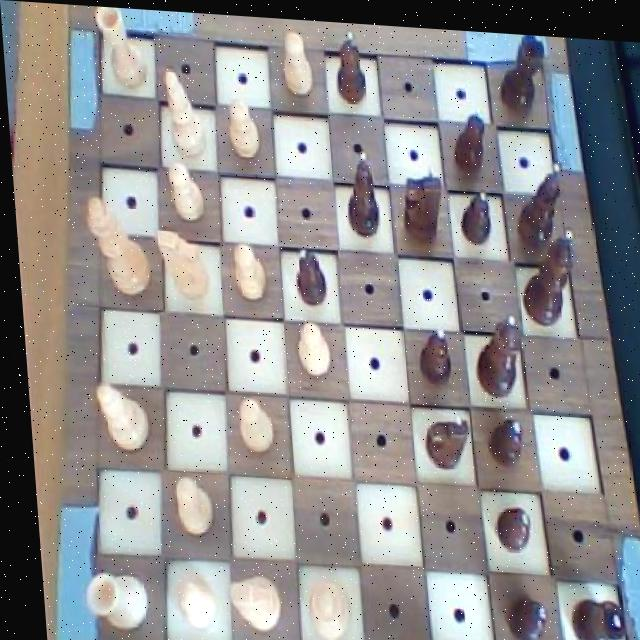bishop: (508, 151, 570, 246), (340, 142, 384, 235)
black-bishop: (512, 214, 578, 325)
black-king: (394, 154, 444, 242), (410, 402, 470, 470)
black-knight: (330, 25, 373, 103), (473, 402, 522, 465), (492, 580, 544, 635), (446, 100, 485, 173), (287, 240, 326, 306), (408, 319, 448, 381), (484, 493, 528, 545), (452, 182, 490, 241)
black-pawn: (464, 299, 521, 390)
black-queen: (491, 26, 556, 111), (559, 583, 624, 640)
black-rook: (155, 63, 208, 158), (88, 377, 148, 456)
white-king: (150, 224, 210, 302), (217, 568, 276, 632)
white-knight: (223, 388, 273, 461), (164, 470, 212, 541), (274, 24, 317, 101), (158, 157, 204, 223), (285, 312, 330, 373), (227, 236, 267, 302), (167, 572, 212, 629), (225, 93, 263, 160)
white-pawn: (82, 191, 149, 297), (294, 572, 347, 640)
white-queen: (93, 5, 150, 92), (74, 563, 143, 632)
